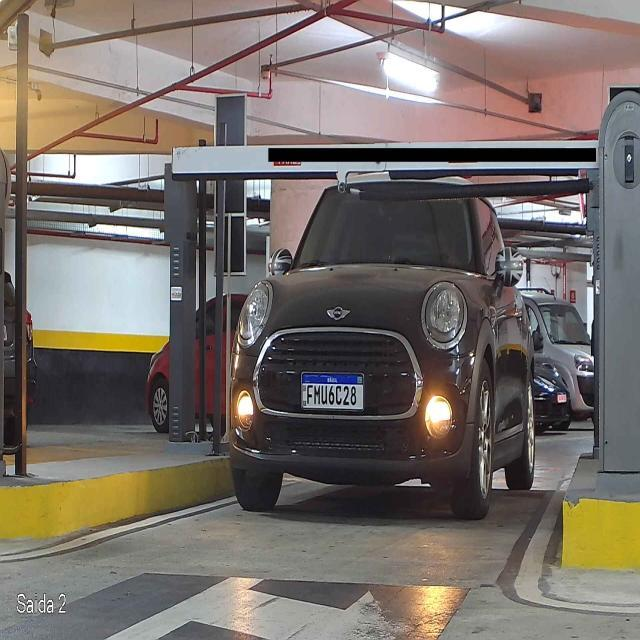mercosul_plate: (299, 370, 366, 413)
